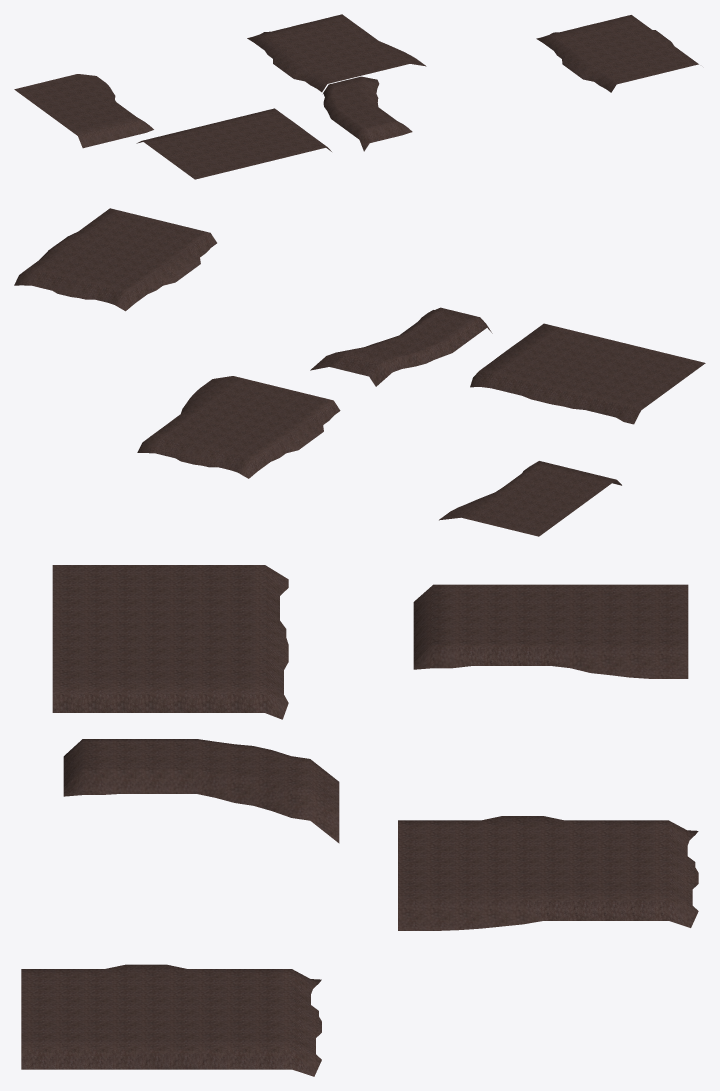
The model's file is Neutral Ground.FBX.
3 renders of one model, top to bottom at view 1: azimuth 30°, elevation 25°; view 2: azimuth 150°, elevation 25°; view 3: azimuth 270°, elevation 25°, orthographic. The views are drawn at different scales.
Visible parts, largest first — view 1: Neutral Ground; view 2: Neutral Ground; view 3: Neutral Ground.
Boxes of the visible parts, <box> form: Neutral Ground: <box>14,14,698,179</box>; Neutral Ground: <box>14,208,705,536</box>; Neutral Ground: <box>21,565,698,1076</box>.
Size of the model in its own units: 850 by 49.51 by 475.
1 material, 1 textured.
